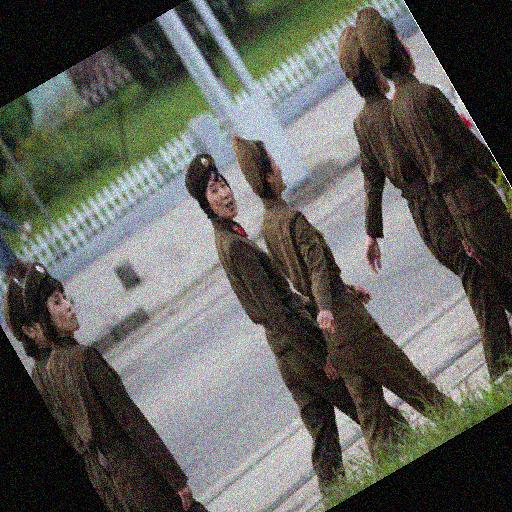north army: (180, 135, 438, 434), (20, 232, 255, 512), (315, 21, 512, 343)
